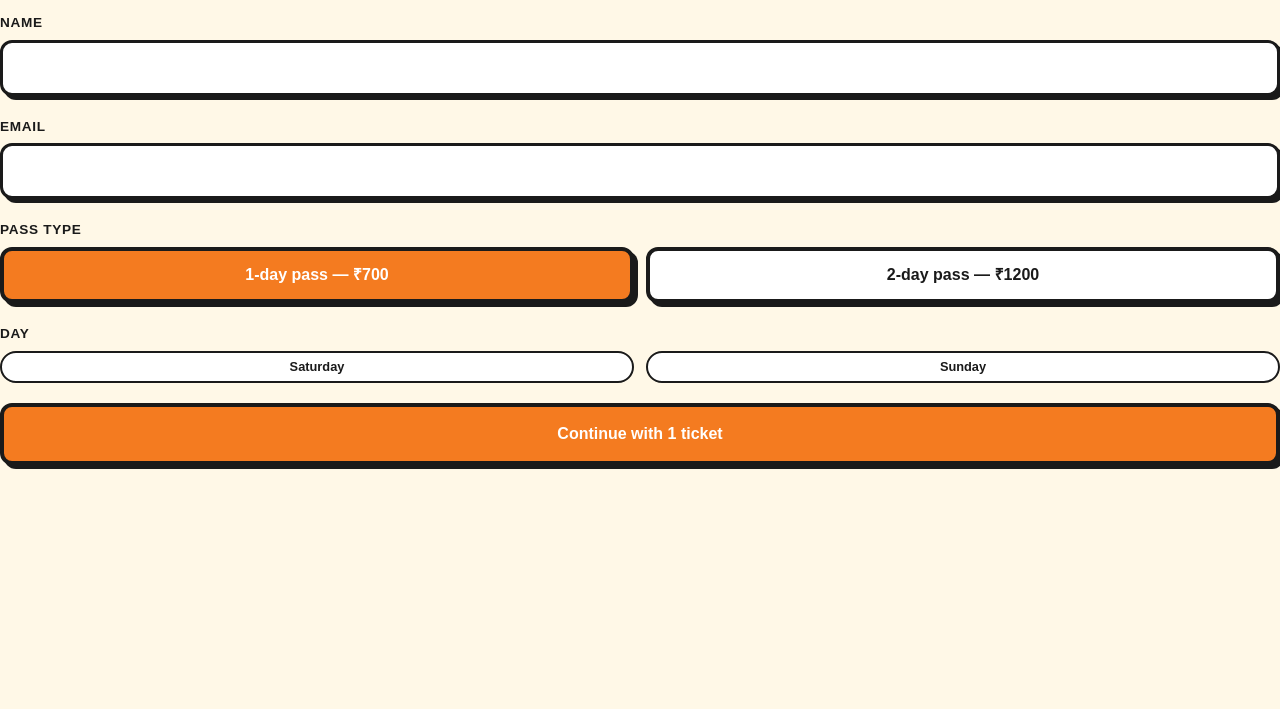
Test: RegisterForm › explains a refused code without blocking the rest of the form
Click the radio button labelled "Saturday". click: (317, 367)
box: x1=0 y1=350 x2=634 y2=383
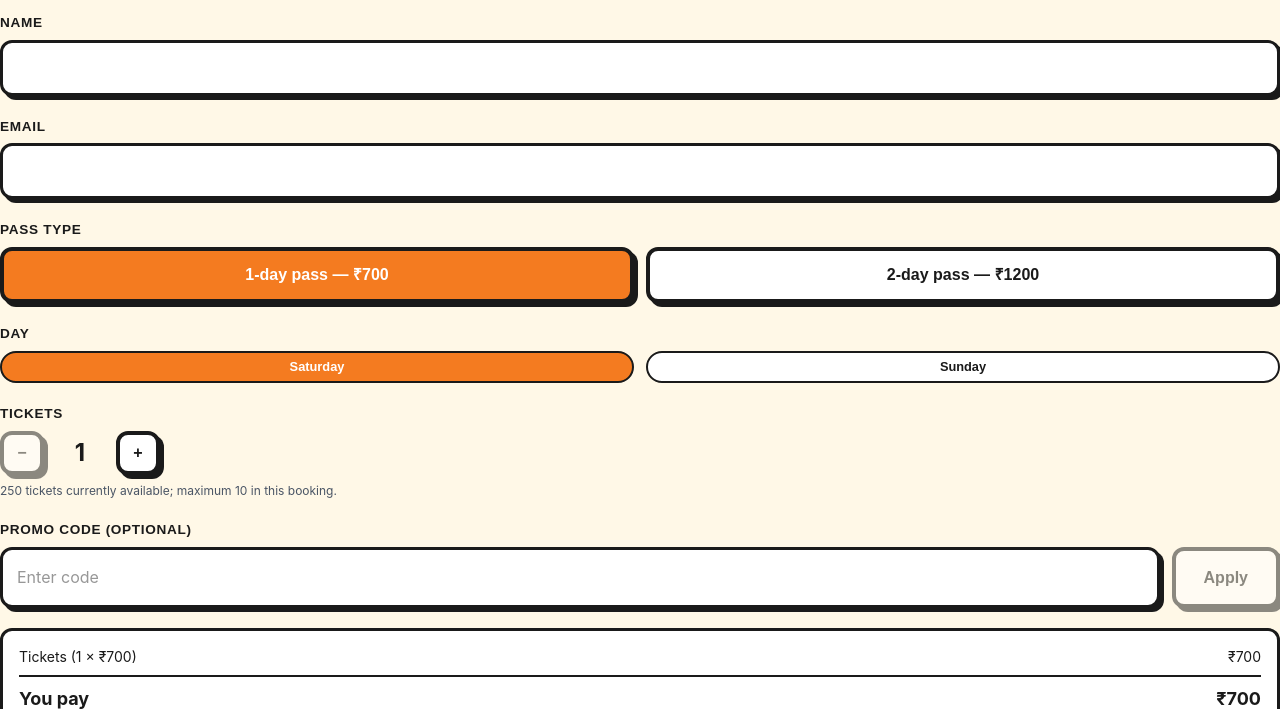
Type "OLDCODE" into the field labelled "Promo code (optional)". click: (580, 577)
box: x1=0 y1=546 x2=1160 y2=608
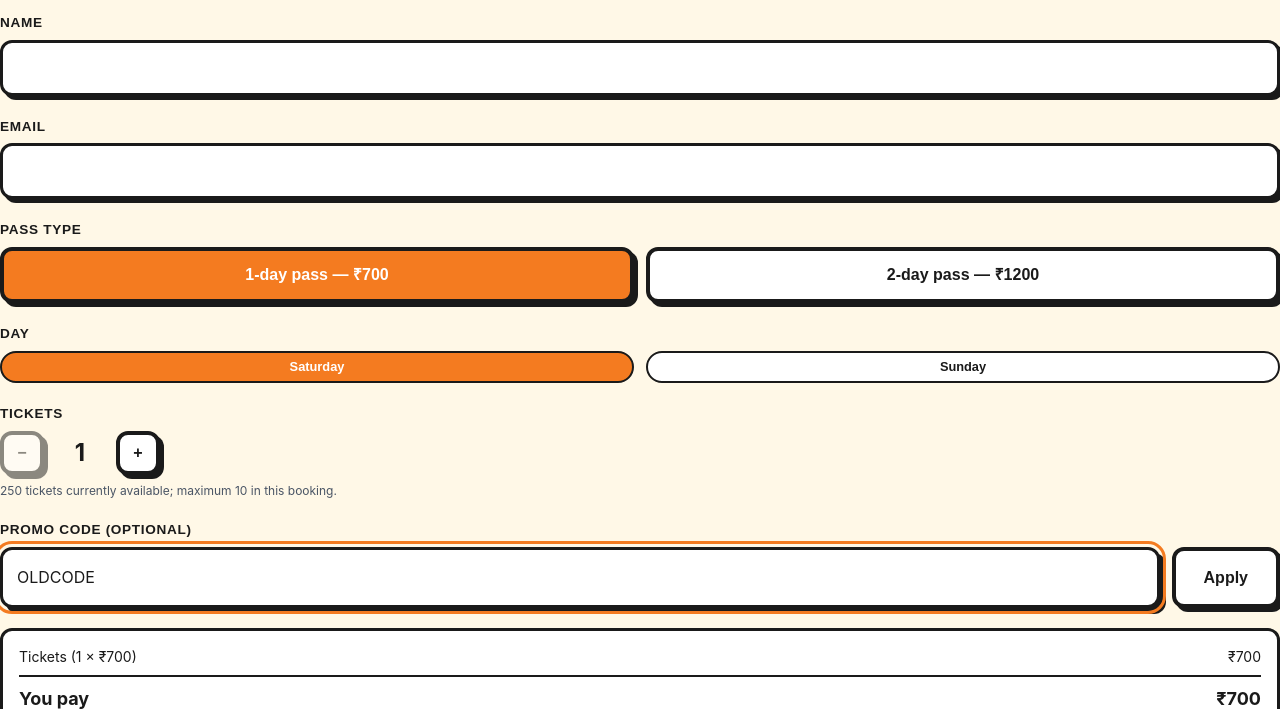
Click the button "Apply". click: (1226, 577)
box: x1=1172 y1=546 x2=1279 y2=608
(page scrolled)
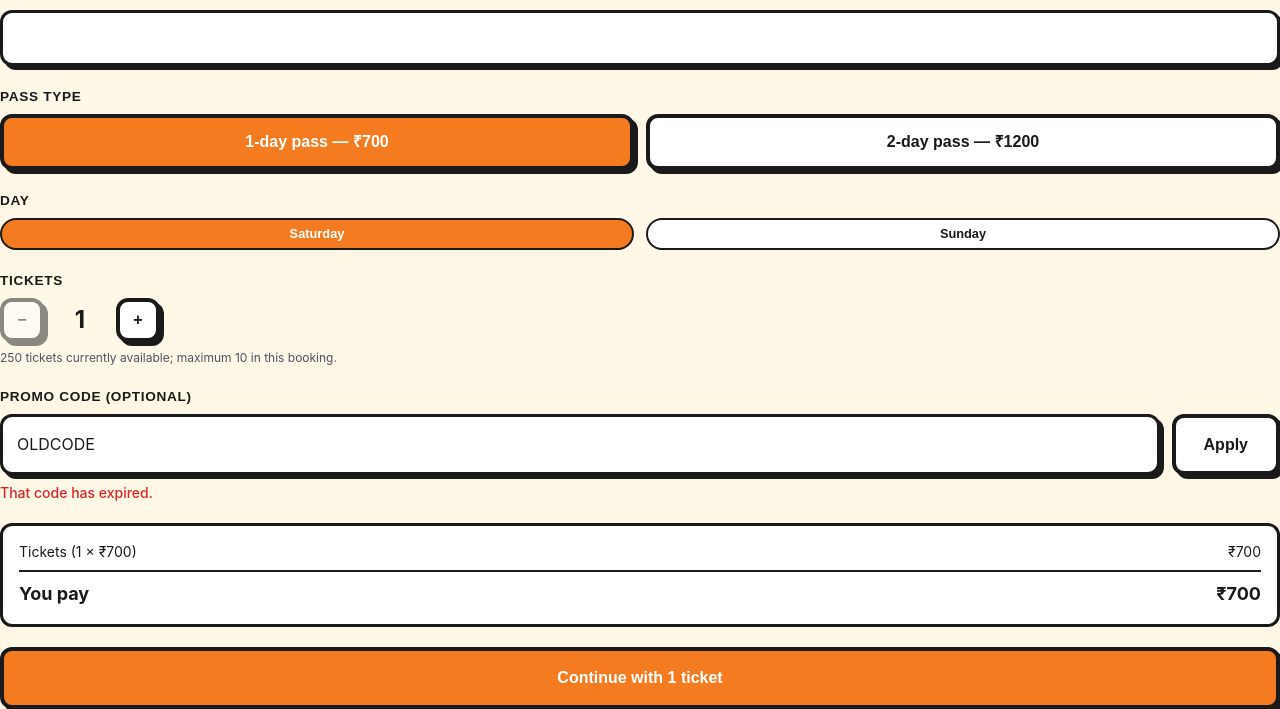
Check: the button "Continue with 1 ticket" is enabled, box x1=0 y1=647 x2=1279 y2=708
Check: the text "₹700" is shown 2 times, box x1=1228 y1=542 x2=1261 y2=562; x1=1216 y1=580 x2=1261 y2=608
Check: the text "That code has expired." is shown, box x1=0 y1=484 x2=153 y2=501
